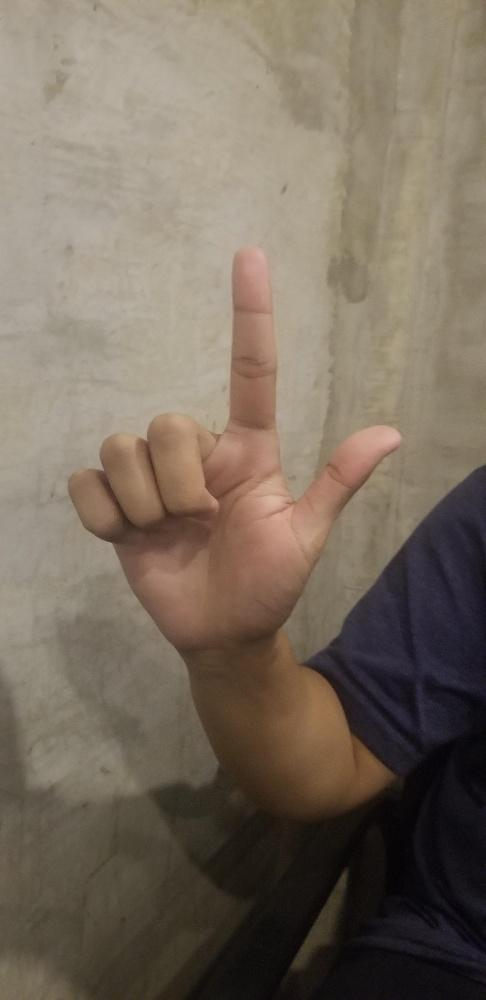l: (67, 245, 399, 653)
